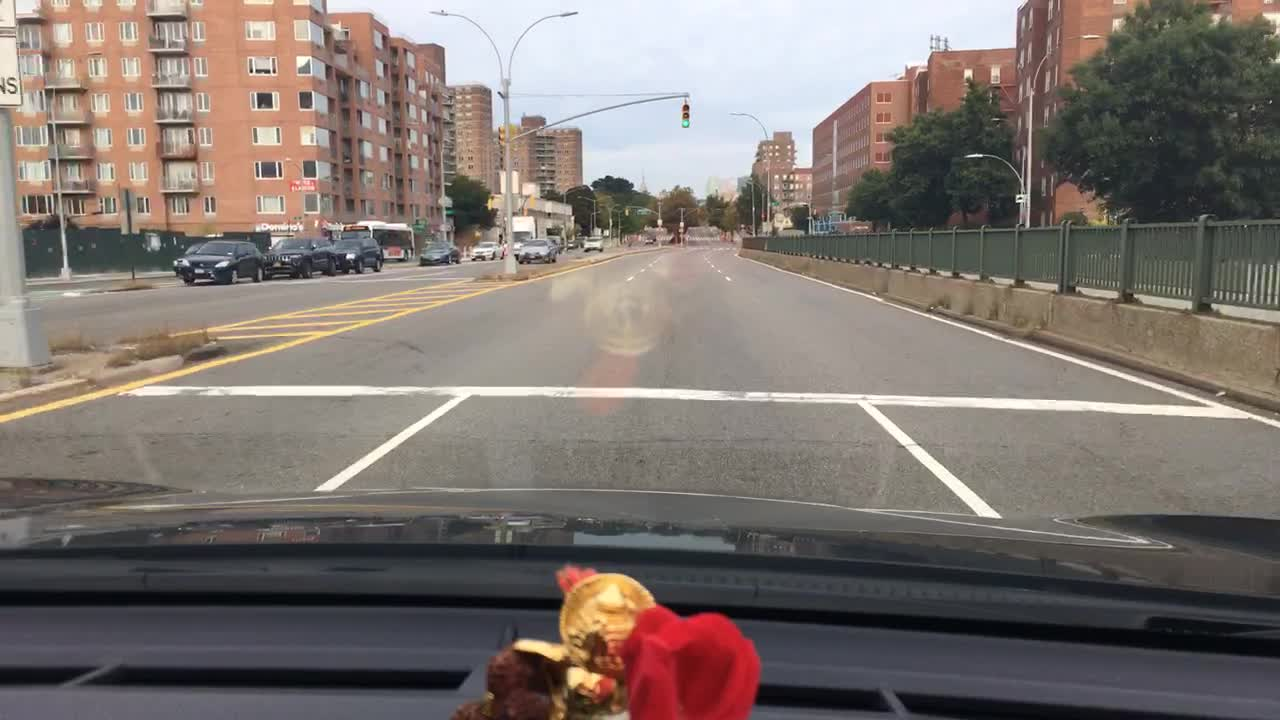bus: (323, 219, 417, 263)
car: (178, 237, 267, 285), (261, 234, 338, 280), (334, 234, 387, 274), (171, 241, 214, 276), (417, 239, 465, 267), (516, 236, 560, 266), (505, 229, 533, 260), (469, 239, 506, 262), (582, 235, 606, 254), (546, 233, 561, 252), (573, 234, 588, 248), (565, 238, 577, 249), (643, 234, 654, 245)
traffic light: (679, 103, 691, 128), (495, 126, 506, 147), (497, 148, 506, 170), (485, 196, 493, 212)
traffic sign: (0, 33, 24, 107), (117, 186, 140, 237), (499, 169, 520, 194), (0, 0, 17, 29), (633, 208, 651, 217), (438, 221, 451, 231), (655, 215, 666, 226), (769, 198, 780, 209), (1014, 191, 1024, 203)
